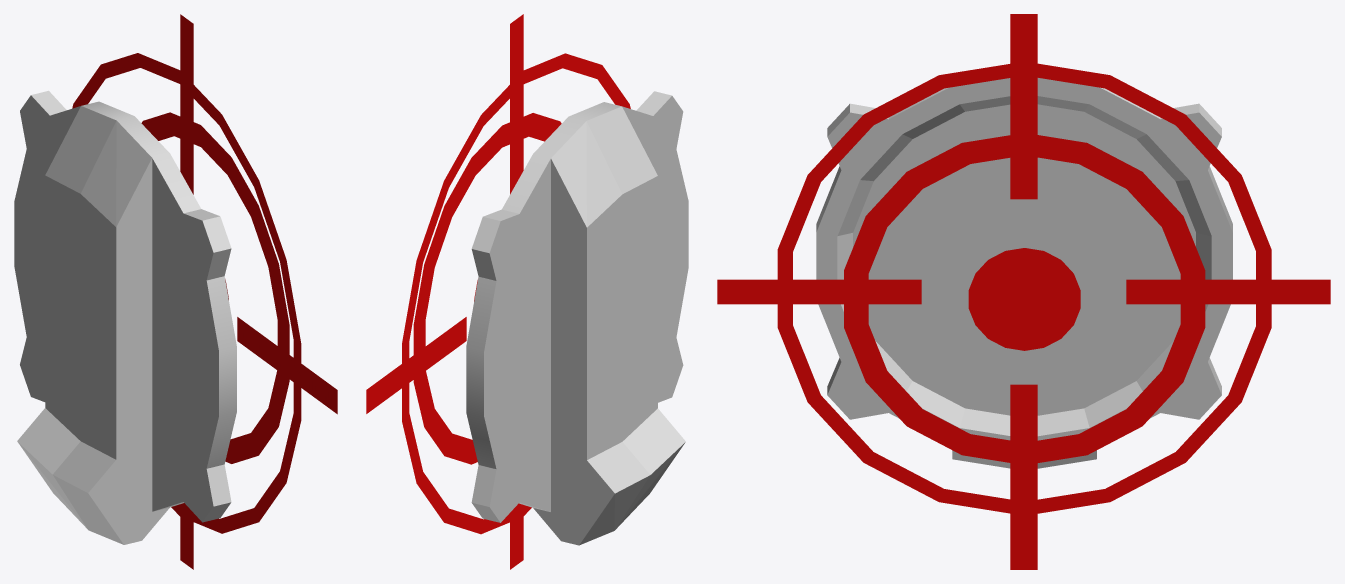
File: target.fbx
3 views of the same model, side by side, from view 1: azimuth 30°, elevation 25°; view 2: azimuth 150°, elevation 25°; view 3: azimuth 270°, elevation 25° (orthographic).
Parts seen in each view (by area): view 1: Cylinder001, Cylinder002; view 2: Cylinder001, Cylinder002; view 3: Cylinder001, Cylinder002.
Part boxes in pixels (<box>): Cylinder001: <box>14,90,236,544</box>; Cylinder002: <box>72,14,337,569</box>; Cylinder001: <box>466,91,688,545</box>; Cylinder002: <box>366,14,630,569</box>; Cylinder001: <box>816,78,1232,468</box>; Cylinder002: <box>717,14,1330,569</box>.
Bounding box in the file's own units: 0.5051 × 1.77 × 1.77.
